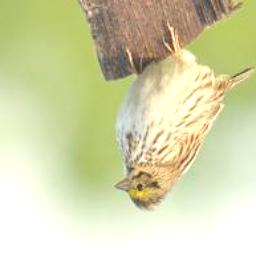Sparrow: (109, 23, 256, 214)
